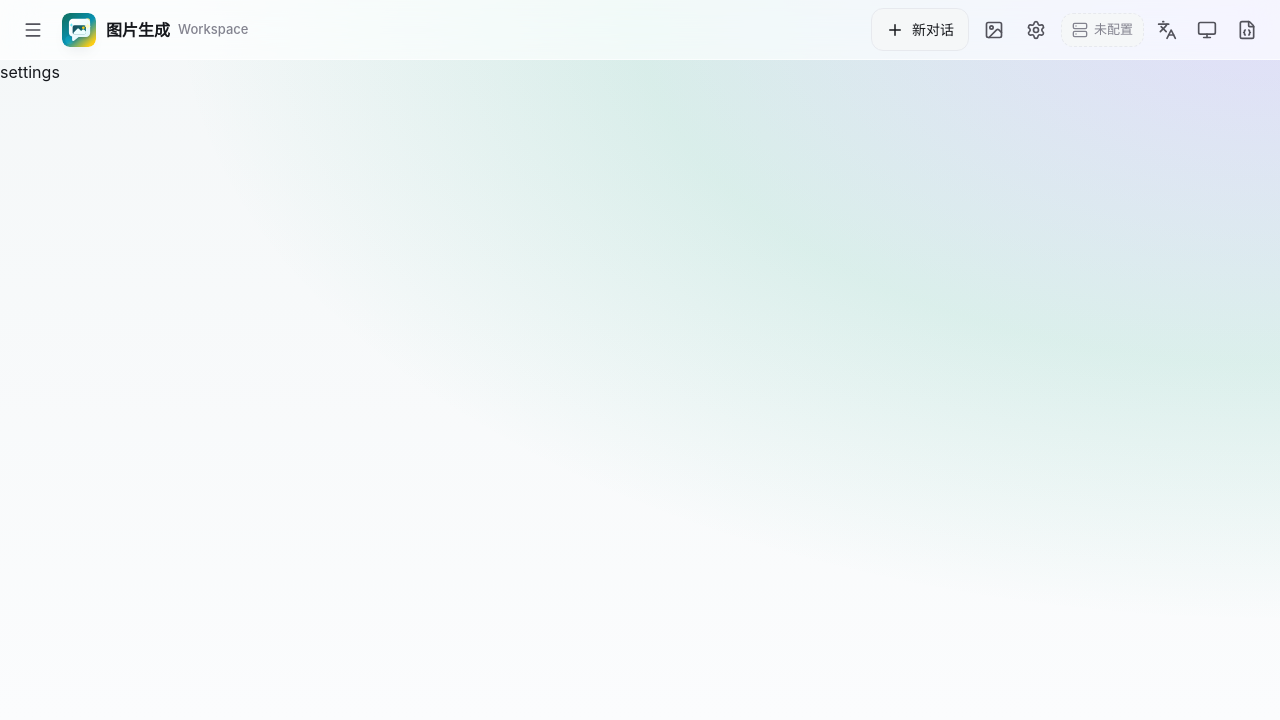
Scenario: App routing and setup guide › returns to chat from settings when starting a new chat
What coordinates should you click on to do the following:
click the button with aria-label "新对话"
I would click on:
 (920, 30)
Its box is [871,8,969,51].
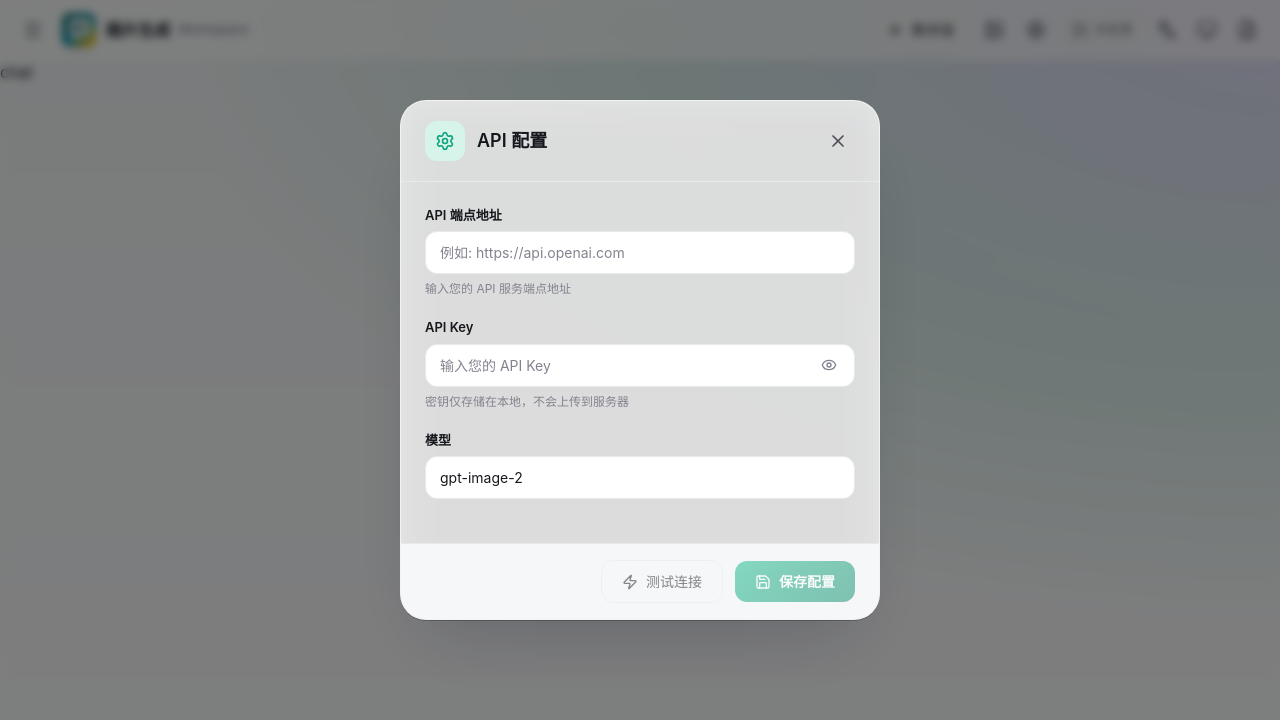
expect the text "chat" is shown: met, box [0,62,33,82]
